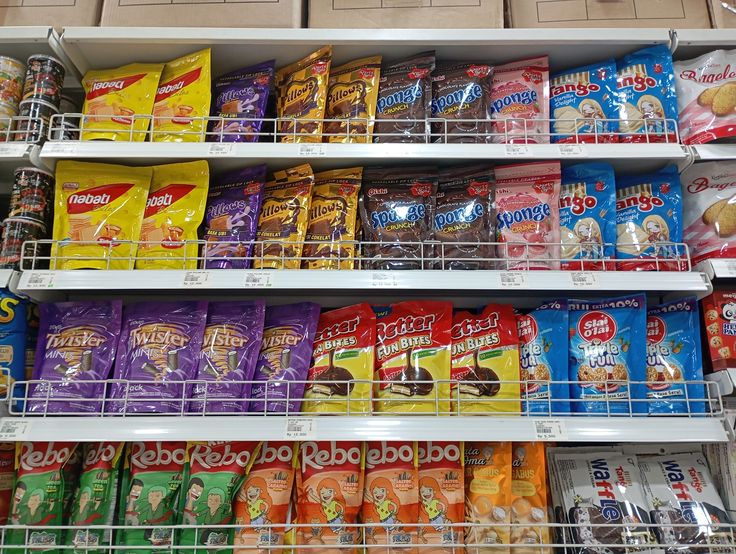Rebo: (292, 432, 365, 489)
Sponge: (490, 165, 563, 260)
Twister: (121, 300, 198, 387)
Waffle: (550, 446, 640, 537)
